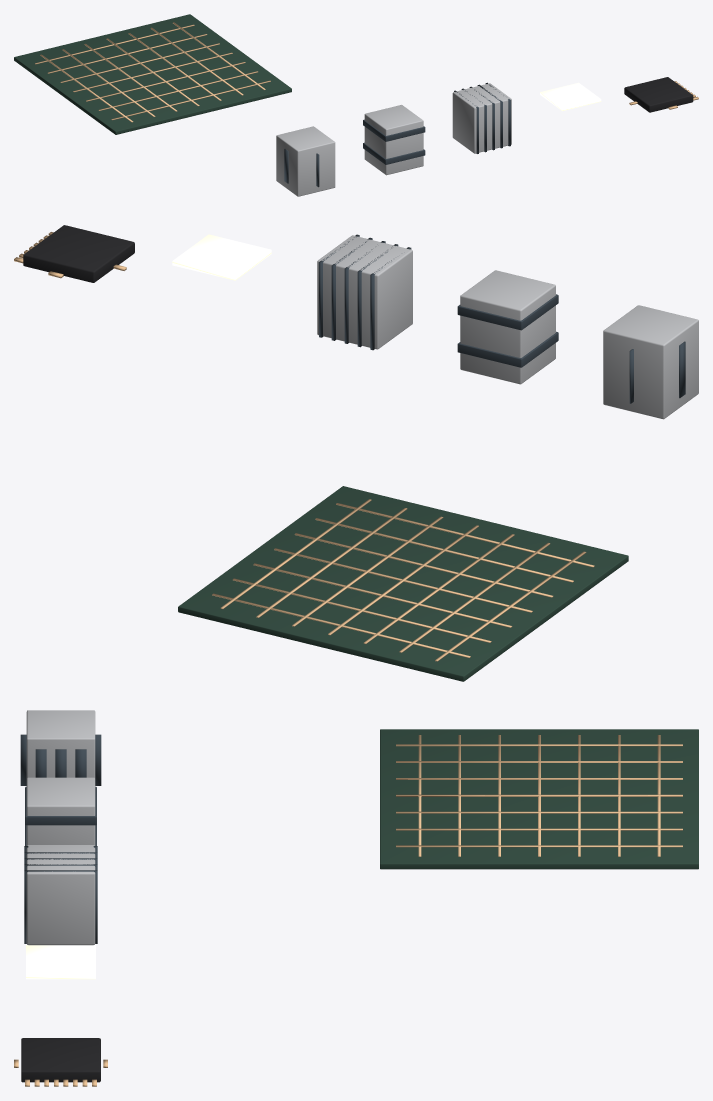
The picture shows the model from 3 angles, top to bottom: view 1: azimuth 30°, elevation 25°; view 2: azimuth 150°, elevation 25°; view 3: azimuth 270°, elevation 25°; orthographic projection. The views are drawn at different scales.
Visible parts, largest first — view 1: pcb, tower_a_core, tower_c_core, tower_b_core, chip, lit_a, tower_b_band2, tower_b_band, trace_6, trace_1, trace_2, trace_0 (+3 smaller); view 2: pcb, tower_a_core, tower_c_core, tower_b_core, chip, lit_a, tower_b_band, tower_b_band2, trace_2, trace_6, trace_3, trace_4 (+3 smaller); view 3: pcb, tower_c_core, tower_b_core, tower_a_core, chip, lit_a, tracev_3, tracev_4, tracev_5, tracev_0, tracev_6, tower_b_band (+1 smaller).
Boxes of the visible parts, x1=… form: pcb: x1=14, y1=14, x2=291, y2=134; tower_a_core: x1=276, y1=126, x2=335, y2=196; tower_c_core: x1=452, y1=83, x2=511, y2=153; tower_b_core: x1=364, y1=105, x2=423, y2=175; chip: x1=624, y1=77, x2=693, y2=112; lit_a: x1=540, y1=82, x2=601, y2=111; tower_b_band2: x1=363, y1=142, x2=425, y2=164; tower_b_band: x1=363, y1=119, x2=425, y2=141; trace_6: x1=35, y1=24, x2=194, y2=64; trace_1: x1=98, y1=71, x2=257, y2=110; trace_2: x1=86, y1=62, x2=245, y2=101; trace_0: x1=111, y1=80, x2=270, y2=120; pcb: x1=178, y1=486, x2=628, y2=681; tower_a_core: x1=603, y1=305, x2=698, y2=419; tower_c_core: x1=317, y1=235, x2=412, y2=349; tower_b_core: x1=460, y1=270, x2=555, y2=384; chip: x1=23, y1=225, x2=134, y2=282; lit_a: x1=172, y1=234, x2=271, y2=280; tower_b_band: x1=457, y1=294, x2=558, y2=330; tower_b_band2: x1=457, y1=331, x2=558, y2=367; trace_2: x1=294, y1=533, x2=553, y2=597; trace_6: x1=212, y1=593, x2=470, y2=658; trace_3: x1=274, y1=548, x2=532, y2=612; trace_4: x1=253, y1=563, x2=512, y2=627; pcb: x1=380, y1=729, x2=698, y2=869; tower_c_core: x1=26, y1=845, x2=95, y2=945; tower_b_core: x1=26, y1=777, x2=95, y2=845; tower_a_core: x1=26, y1=710, x2=95, y2=778; chip: x1=21, y1=1038, x2=100, y2=1082; lit_a: x1=26, y1=945, x2=95, y2=979; tracev_3: x1=396, y1=794, x2=682, y2=796; tracev_4: x1=396, y1=811, x2=682, y2=813; tracev_5: x1=396, y1=828, x2=682, y2=830; tracev_0: x1=396, y1=744, x2=682, y2=746; tracev_6: x1=396, y1=845, x2=682, y2=847; tower_b_band: x1=25, y1=786, x2=96, y2=825.
Size of the model in its own units: 10.65 by 1.08 by 8.59.
